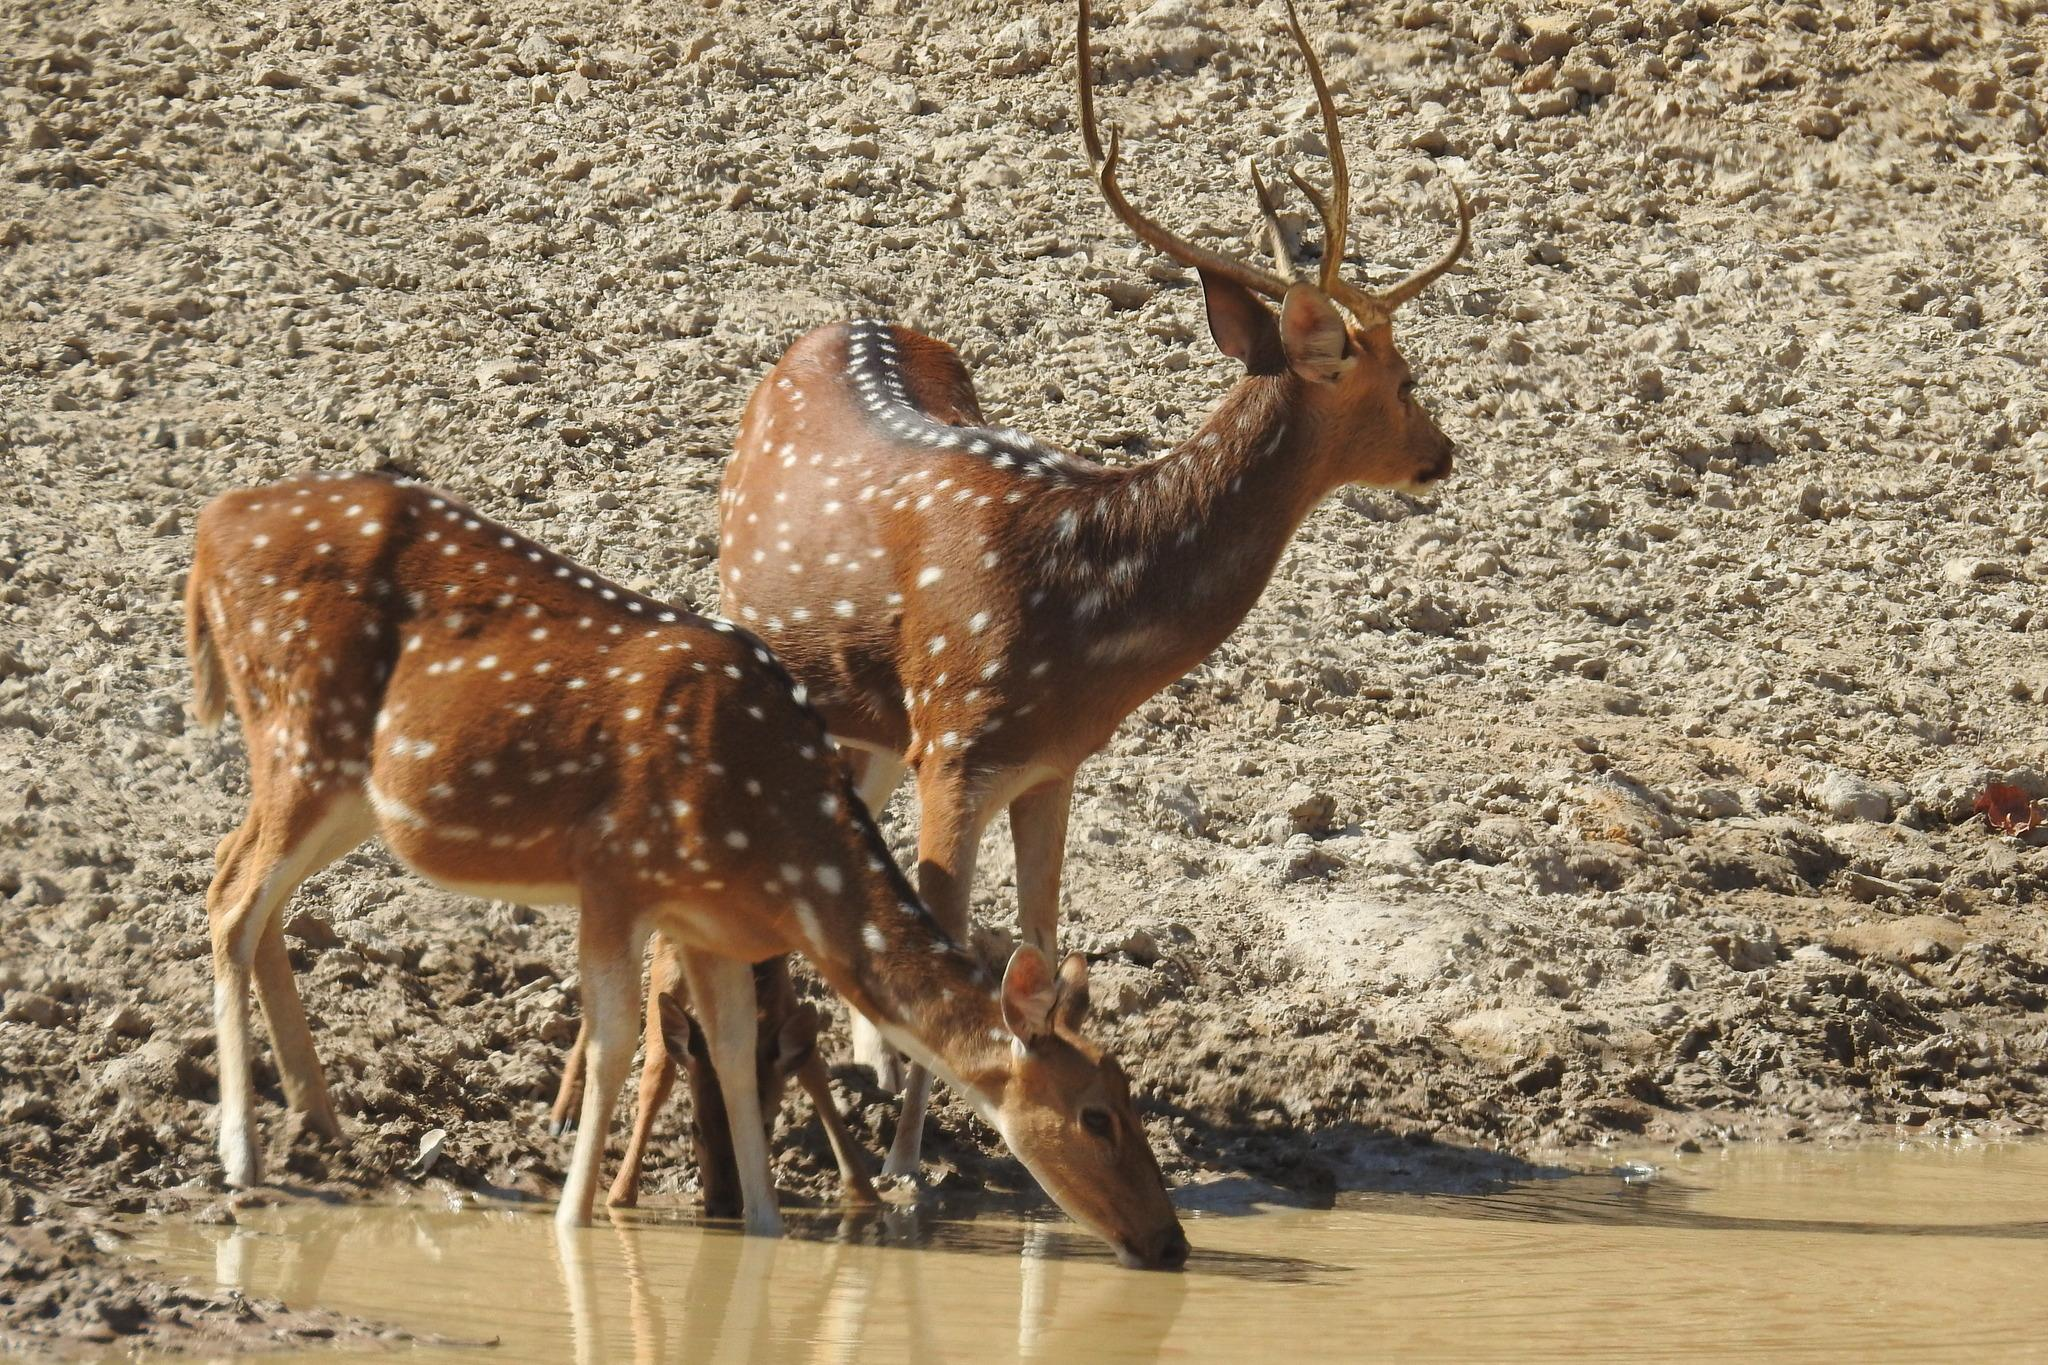Deer: (187, 477, 1185, 1267), (719, 0, 1471, 964)
